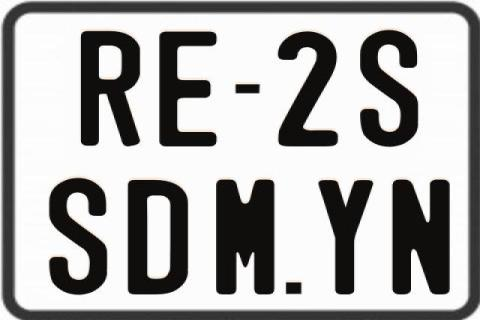0: (275, 31, 339, 148)
D: (128, 178, 188, 292)
E: (158, 29, 218, 149)
M: (215, 179, 276, 296)
N: (392, 179, 452, 297)
R: (80, 31, 140, 146)
S: (357, 28, 417, 147), (49, 176, 107, 298)
Y: (319, 180, 375, 298)
